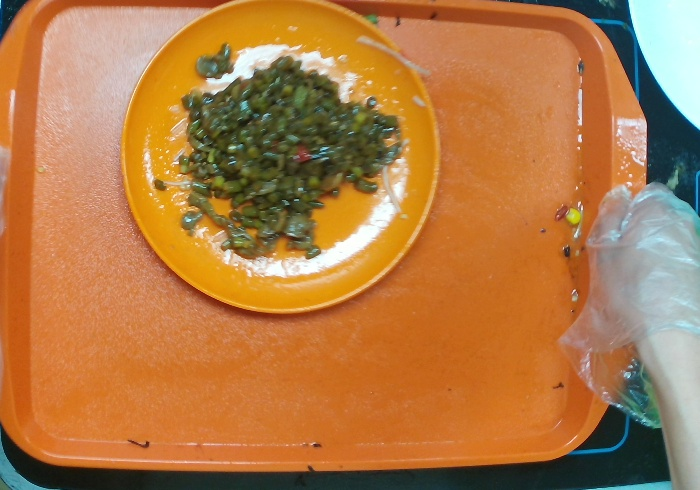HZYJPL-Ju_Huang_Yuan_Pan: (117, 1, 453, 321)
